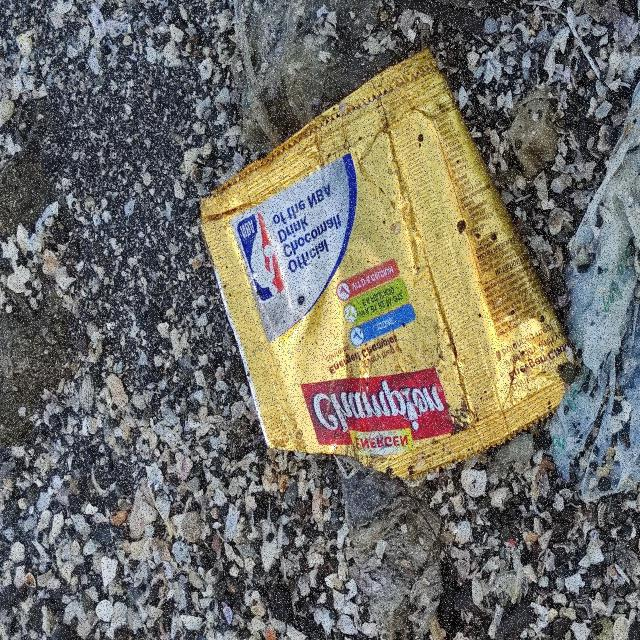plastic_waste: (199, 50, 580, 473)
